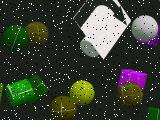Right: (73, 0, 131, 60)
